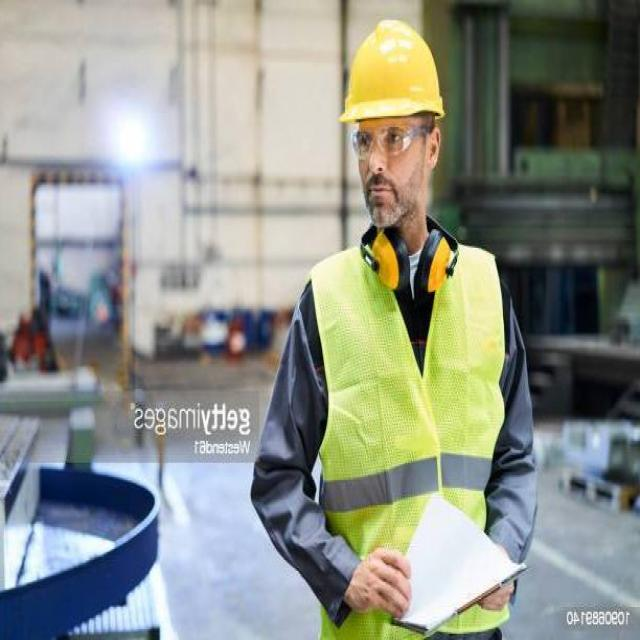Reflective-Jacket: (302, 229, 512, 637)
Safety-Helmet: (334, 14, 448, 135)
